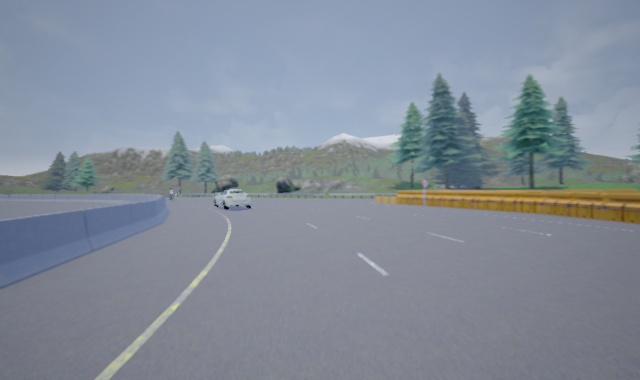vehicle: (212, 188, 253, 211)
